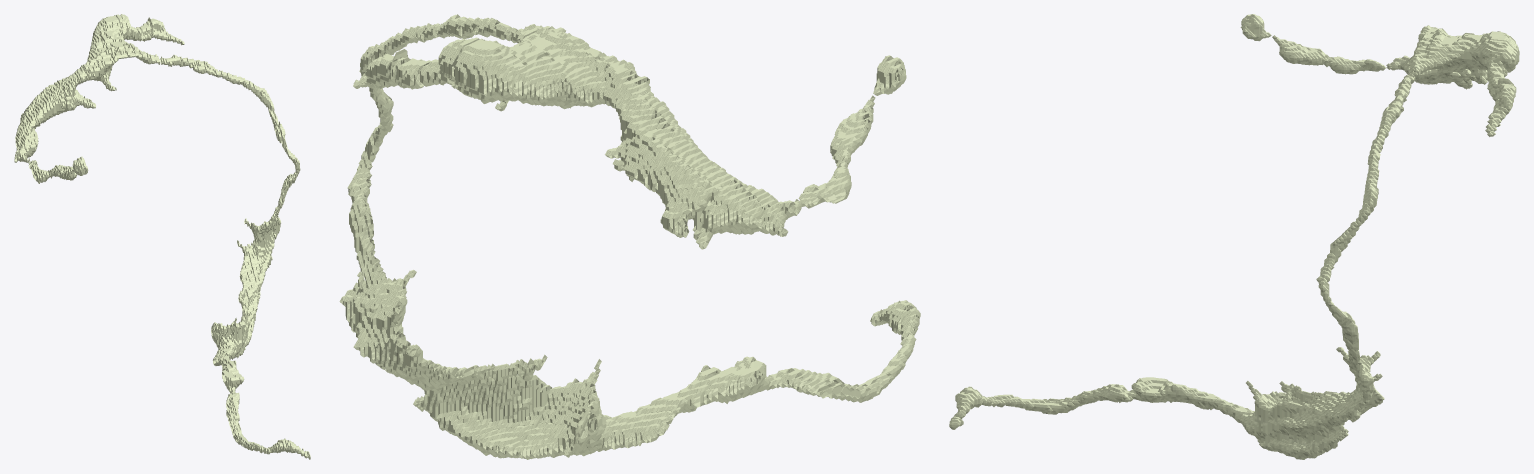
Rendered from SVV_RMDVR.gltf.
3 renders of one model, left to right at view 1: azimuth 30°, elevation 25°; view 2: azimuth 150°, elevation 25°; view 3: azimuth 270°, elevation 25°, orthographic. The views are drawn at different scales.
Parts seen in each view (by area): view 1: RMDVR; view 2: RMDVR; view 3: RMDVR.
Part boxes in pixels (x1,y1,x2,y2): RMDVR: [14, 14, 310, 459]; RMDVR: [339, 14, 920, 459]; RMDVR: [949, 14, 1519, 459].
Size of the model in its own units: 96639 by 105558 by 136240.
